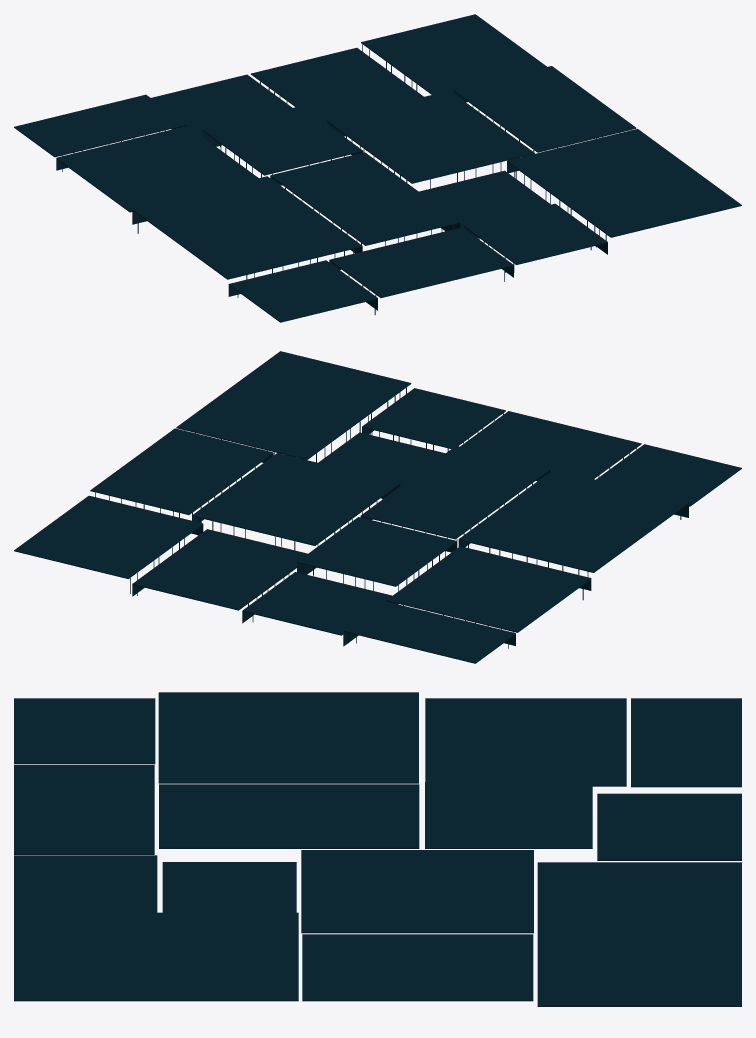
Rendered from floor_v2_16.glb.
The picture shows the model from 3 angles, top to bottom: view 1: azimuth 30°, elevation 25°; view 2: azimuth 150°, elevation 25°; view 3: azimuth 270°, elevation 25°; orthographic projection. The views are drawn at different scales.
Parts seen in each view (by area): view 1: terraces_plates, terraces_skirt, terraces_streaks_hang; view 2: terraces_plates, terraces_skirt, terraces_streaks_hang; view 3: terraces_plates.
Boxes of the visible parts, left/top/right/bottom form: terraces_plates: left=14, top=14, right=741, bottom=322; terraces_skirt: left=56, top=91, right=607, bottom=310; terraces_streaks_hang: left=60, top=44, right=630, bottom=314; terraces_plates: left=14, top=351, right=741, bottom=663; terraces_skirt: left=132, top=427, right=688, bottom=646; terraces_streaks_hang: left=95, top=387, right=681, bottom=648; terraces_plates: left=14, top=692, right=741, bottom=1006.
Size of the model in its own units: 16 by 0.94 by 16.
